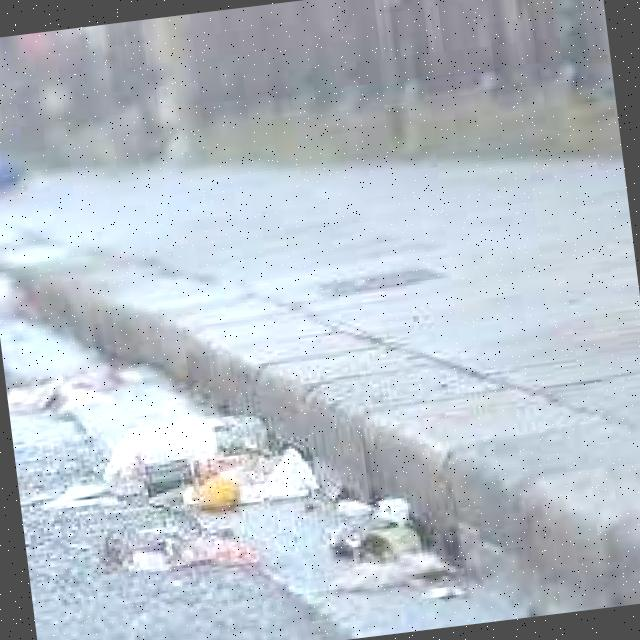curb: (368, 343, 640, 633), (200, 282, 373, 500), (3, 217, 193, 403)
